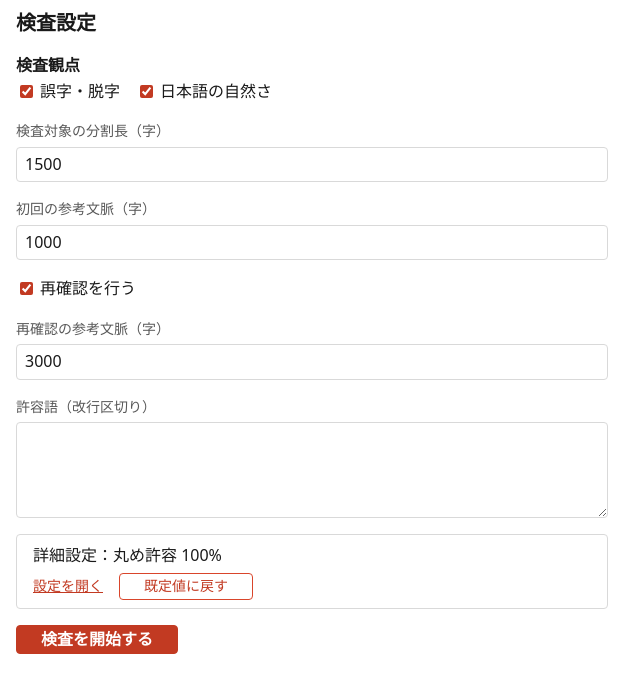
Test: RunSettingsForm × useStartRun: クライアント検証（W7-7、S6-4） › validateChunkSettings に反する保存値ではフォーム全体のエラーを出し、startRun を呼ばない（設定画面へのリンクも出る）
Click the button "検査を開始する" at (97,639), box [16,624,178,654]
(page scrolled)
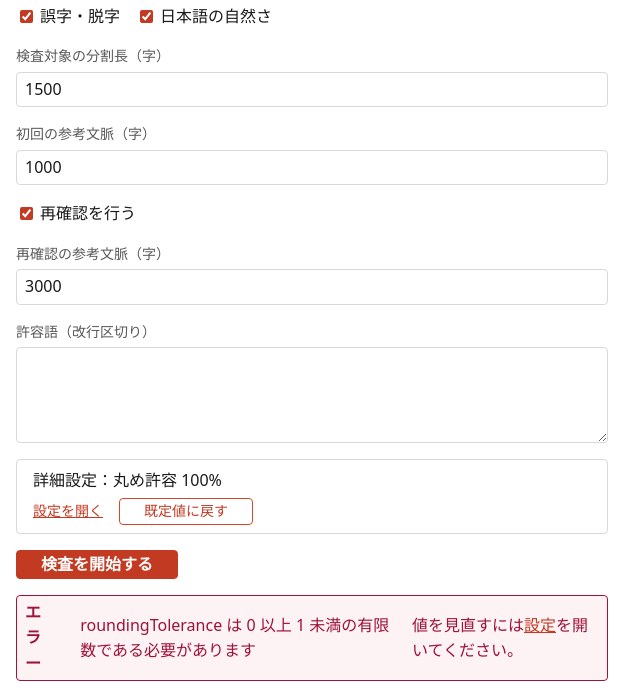
Now the message "roundingTolerance は 0 以上 1 未満の有限数である必要があります 値を見直すには 設定 を開いてください。" is shown, box [16,595,608,682]
Now the message shows "roundingTolerance", box [80,614,389,661]
Now the link "設定" is shown, box [524,614,556,636]
